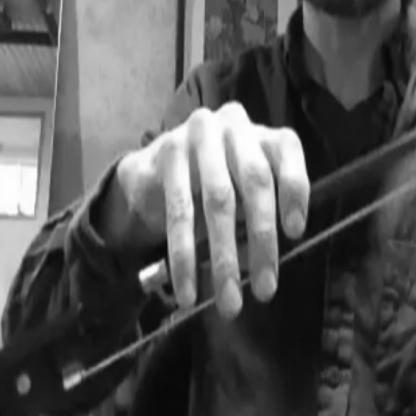good: (146, 101, 314, 327)
